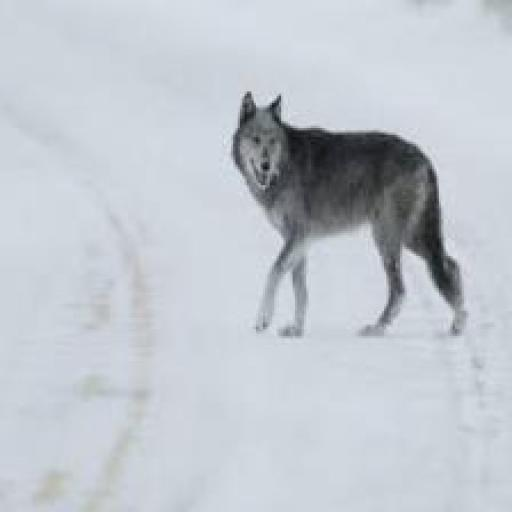wolf: (229, 89, 481, 352)
